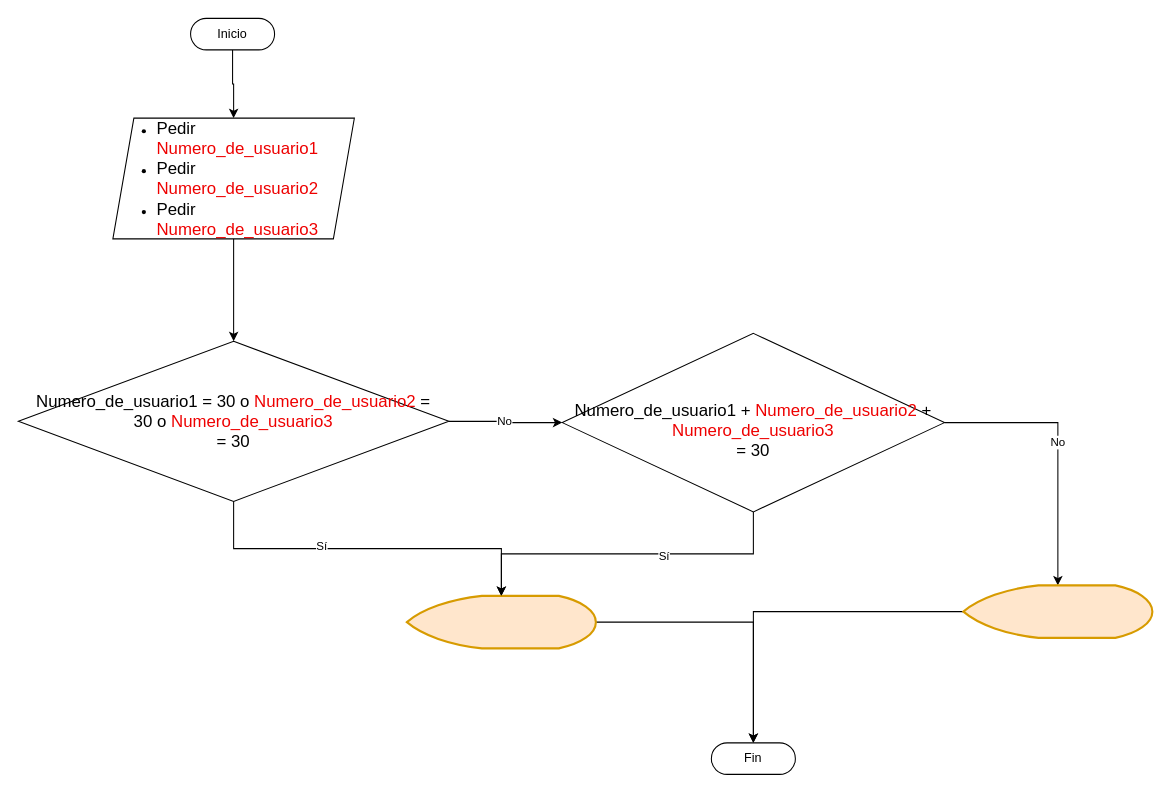
The diagram is 1172 pixels wide and 793 high, and some of its shapes have lost their labels. The centre of each missing label's shape, as x and y in pixels:
"Mostrar “ Correcto ”" goes at [500,621].
"Mostrar “Inc orrecto ”" goes at [1057,611].
